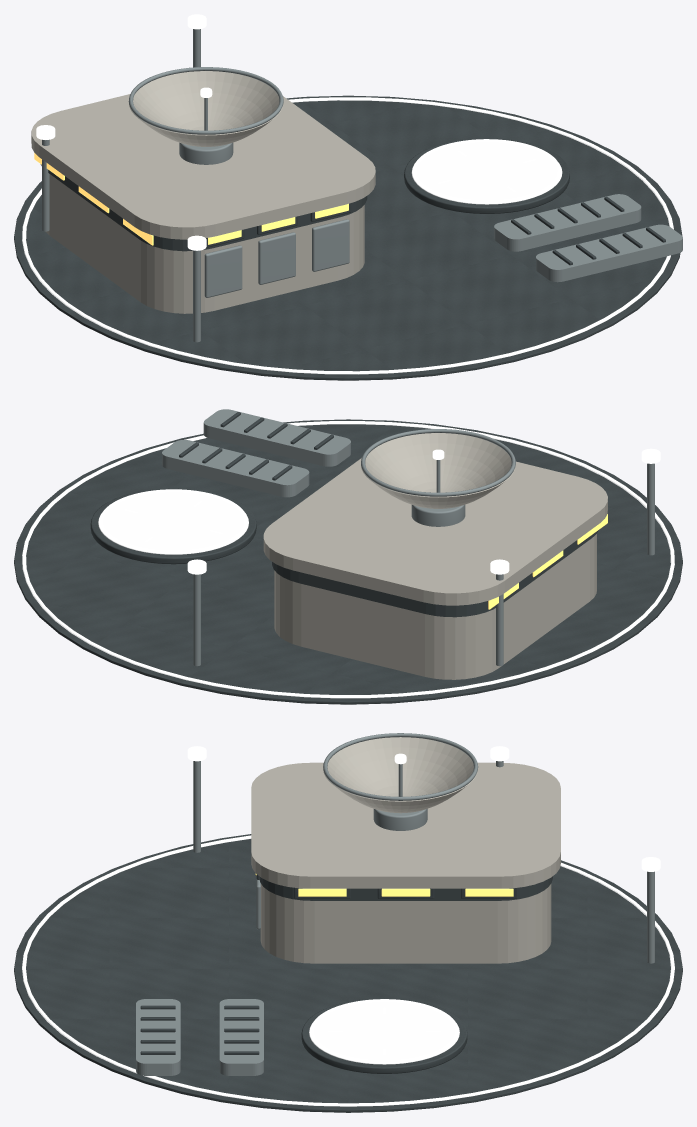
File: crown-relay.glb
The picture shows the model from 3 angles, top to bottom: view 1: azimuth 30°, elevation 25°; view 2: azimuth 150°, elevation 25°; view 3: azimuth 270°, elevation 25°; orthographic projection.
Visible parts, largest first — view 1: MF_Roof_Crown__structure_graphite_joints, MF_Roof_Crown__structure_ivory_ceramic, MF_Roof_Crown__brushed_titanium, MF_Roof_Crown__identity_roof_inset, MF_Roof_Crown__identity_trim, MF_Roof_Crown__practical_warm_window_glass, MF_Roof_Crown__identity_roof_ring, MF_Roof_Crown__ambient_sensor_navigation; view 2: MF_Roof_Crown__structure_graphite_joints, MF_Roof_Crown__structure_ivory_ceramic, MF_Roof_Crown__brushed_titanium, MF_Roof_Crown__identity_roof_inset, MF_Roof_Crown__identity_trim, MF_Roof_Crown__identity_roof_ring, MF_Roof_Crown__ambient_sensor_navigation, MF_Roof_Crown__practical_warm_window_glass; view 3: MF_Roof_Crown__structure_graphite_joints, MF_Roof_Crown__structure_ivory_ceramic, MF_Roof_Crown__brushed_titanium, MF_Roof_Crown__identity_roof_inset, MF_Roof_Crown__identity_trim, MF_Roof_Crown__identity_roof_ring, MF_Roof_Crown__practical_warm_window_glass, MF_Roof_Crown__ambient_sensor_navigation.
Boxes of the visible parts, left/top/right/bottom form: MF_Roof_Crown__structure_graphite_joints: left=14, top=95, right=682, bottom=380; MF_Roof_Crown__structure_ivory_ceramic: left=31, top=71, right=375, bottom=313; MF_Roof_Crown__brushed_titanium: left=42, top=29, right=682, bottom=342; MF_Roof_Crown__identity_roof_inset: left=411, top=142, right=562, bottom=204; MF_Roof_Crown__identity_trim: left=22, top=97, right=673, bottom=374; MF_Roof_Crown__practical_warm_window_glass: left=34, top=153, right=348, bottom=245; MF_Roof_Crown__identity_roof_ring: left=412, top=139, right=561, bottom=203; MF_Roof_Crown__ambient_sensor_navigation: left=36, top=14, right=212, bottom=250; MF_Roof_Crown__structure_graphite_joints: left=14, top=412, right=682, bottom=704; MF_Roof_Crown__structure_ivory_ceramic: left=263, top=433, right=607, bottom=679; MF_Roof_Crown__brushed_titanium: left=162, top=409, right=654, bottom=666; MF_Roof_Crown__identity_roof_inset: left=98, top=492, right=248, bottom=554; MF_Roof_Crown__identity_trim: left=22, top=421, right=674, bottom=698; MF_Roof_Crown__identity_roof_ring: left=99, top=489, right=247, bottom=553; MF_Roof_Crown__ambient_sensor_navigation: left=187, top=448, right=660, bottom=574; MF_Roof_Crown__practical_warm_window_glass: left=488, top=514, right=607, bottom=609; MF_Roof_Crown__structure_graphite_joints: left=14, top=834, right=682, bottom=1112; MF_Roof_Crown__structure_ivory_ceramic: left=251, top=737, right=560, bottom=963; MF_Roof_Crown__brushed_titanium: left=136, top=733, right=654, bottom=1075; MF_Roof_Crown__identity_roof_inset: left=309, top=1002, right=459, bottom=1064; MF_Roof_Crown__identity_trim: left=22, top=835, right=674, bottom=1106; MF_Roof_Crown__identity_roof_ring: left=310, top=999, right=458, bottom=1063; MF_Roof_Crown__practical_warm_window_glass: left=255, top=873, right=513, bottom=896; MF_Roof_Crown__ambient_sensor_navigation: left=187, top=746, right=660, bottom=871.
Bounding box in the file's own units: 16.8 × 4.42 × 16.8.
8 materials, 2 textured.
